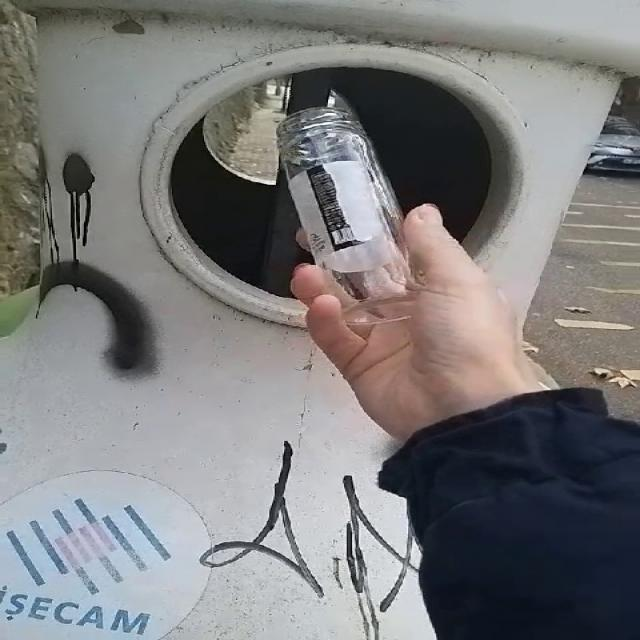glass: (279, 104, 419, 324)
